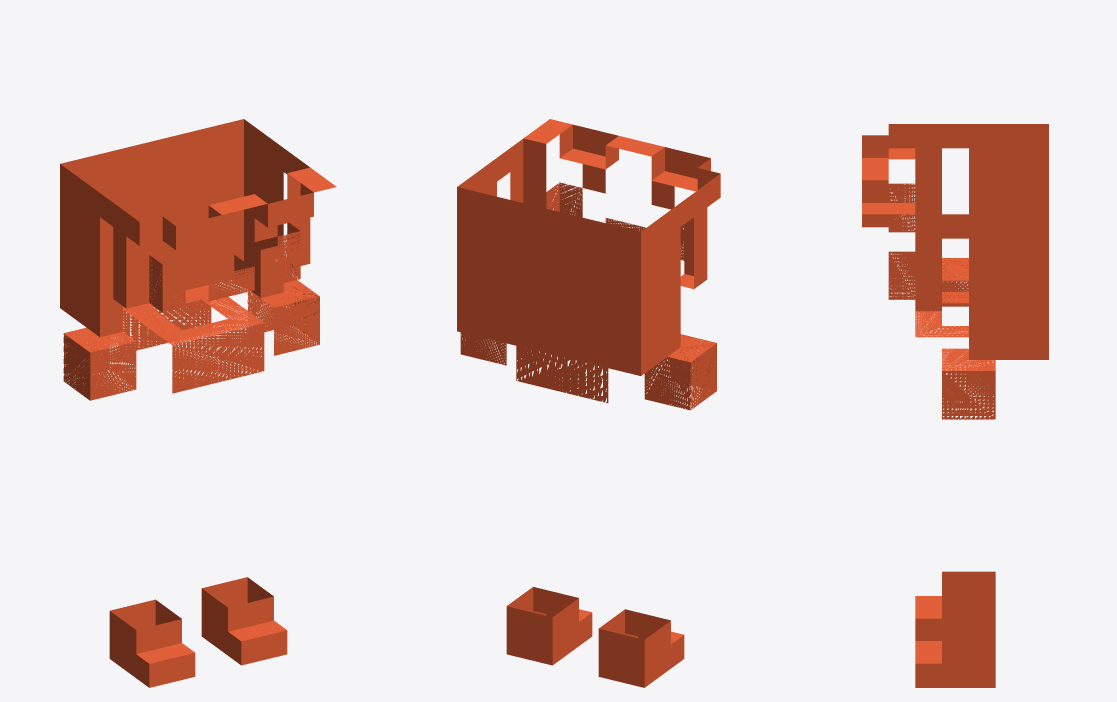
Rendered from Character-13.obj.
The picture shows the model from 3 angles, left to right: view 1: azimuth 30°, elevation 25°; view 2: azimuth 150°, elevation 25°; view 3: azimuth 270°, elevation 25°; orthographic projection.
Bounding box in the file's own units: 1.2 × 2.5 × 1.1.
Materials: 1 (1 with a texture image).
